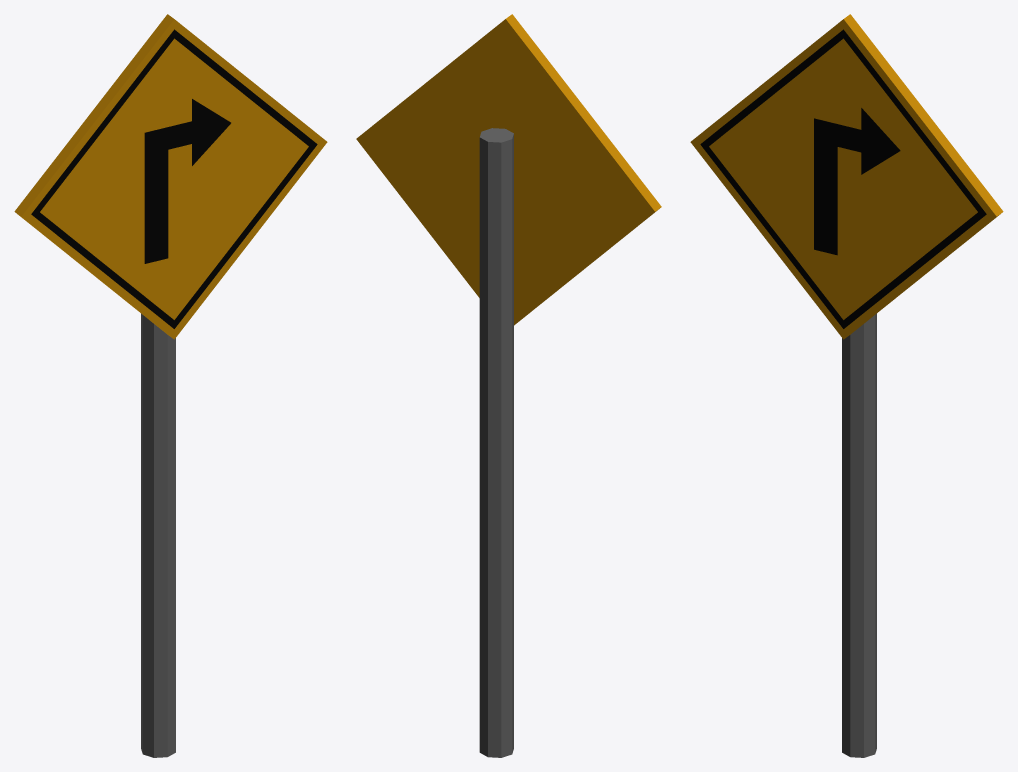
The model's file is Right_Sign.fbx.
The picture shows the model from 3 angles, left to right: view 1: azimuth 30°, elevation 25°; view 2: azimuth 150°, elevation 25°; view 3: azimuth 330°, elevation 25°; orthographic projection. The views are drawn at different scales.
Parts seen in each view (by area): view 1: Right Sign; view 2: Right Sign; view 3: Right Sign.
Part boxes in pixels (bbox=[...]): Right Sign: bbox=[14, 14, 327, 757]; Right Sign: bbox=[356, 14, 661, 757]; Right Sign: bbox=[690, 14, 1003, 757].
Size of the model in its own units: 0.942 by 2.18 by 0.133.
